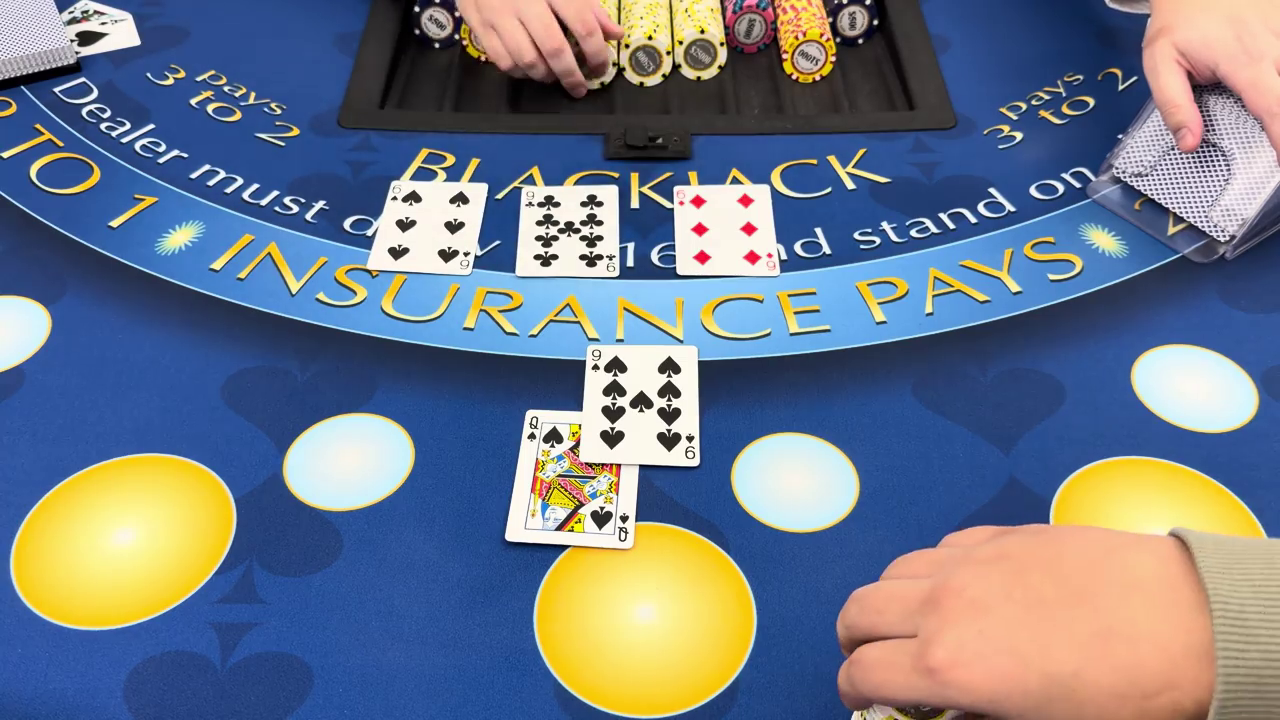6D: (763, 246, 779, 273), (674, 186, 688, 210)
6S: (457, 245, 473, 276), (389, 181, 405, 204)
9C: (522, 186, 540, 210), (603, 251, 619, 276)
9S: (681, 432, 700, 464), (586, 347, 605, 373)
QS: (614, 511, 634, 544), (526, 408, 541, 445)
